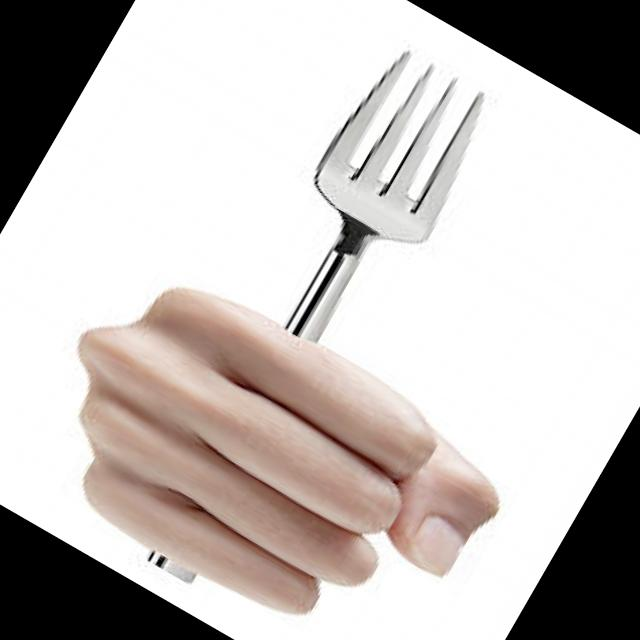fork: (98, 31, 511, 606)
